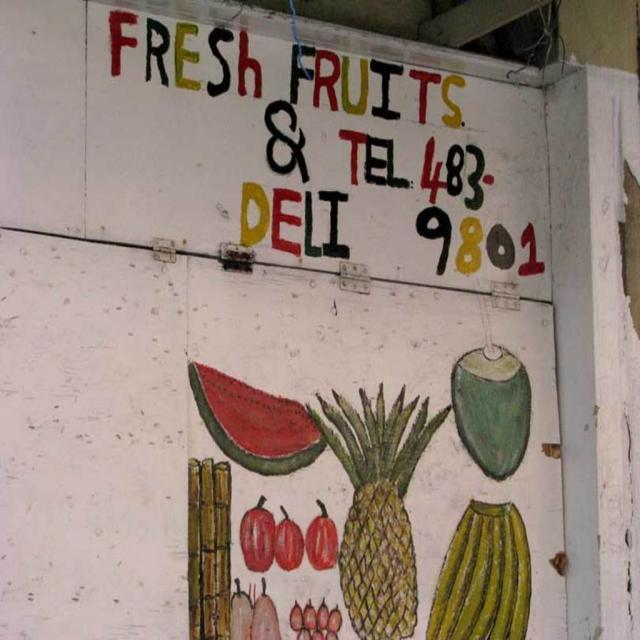Banana: (428, 500, 530, 640)
